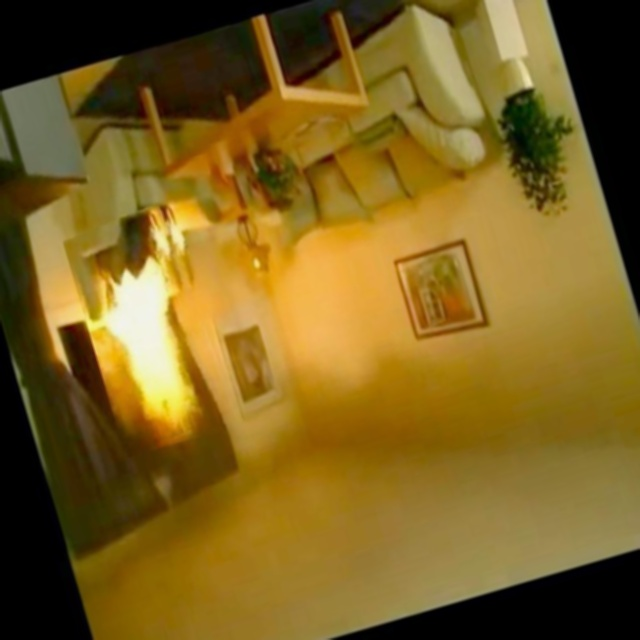fire: (29, 202, 245, 488)
